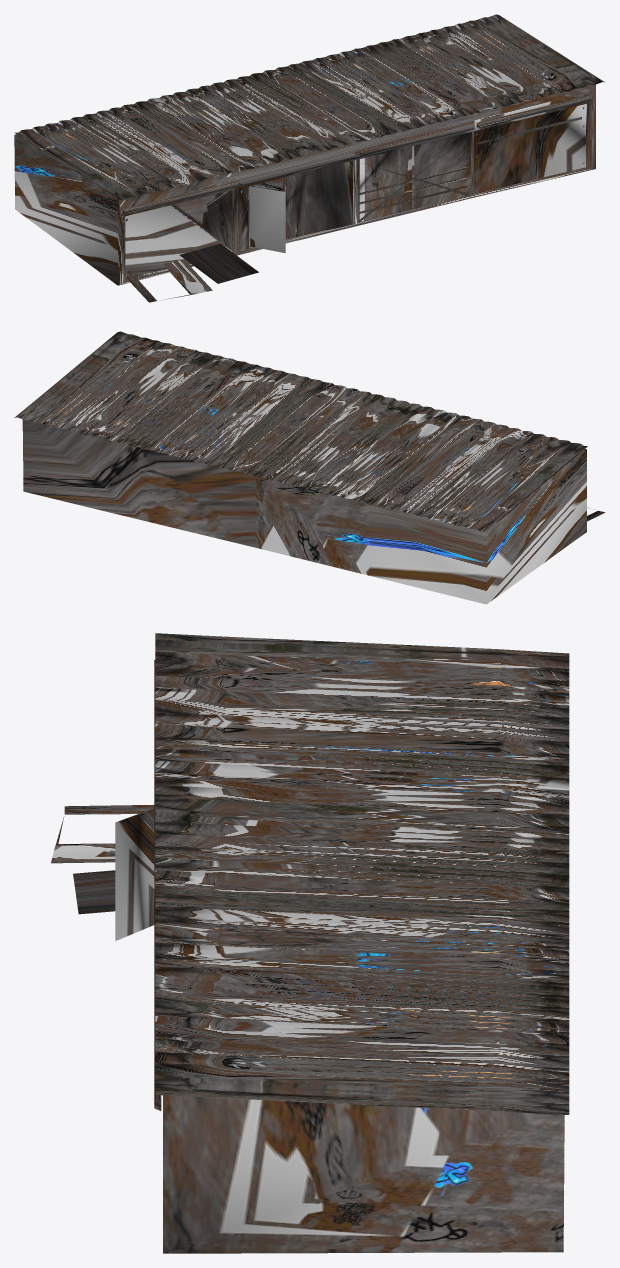
Rendered from abandoned_garage.glb.
The picture shows the model from 3 angles, top to bottom: view 1: azimuth 30°, elevation 25°; view 2: azimuth 150°, elevation 25°; view 3: azimuth 270°, elevation 25°; orthographic projection. The views are drawn at different scales.
Parts seen in each view (by area): view 1: abandoned_garage; view 2: abandoned_garage; view 3: abandoned_garage.
Boxes of the visible parts, x1=… form: abandoned_garage: x1=14, y1=14, x2=604, y2=302; abandoned_garage: x1=14, y1=331, x2=605, y2=604; abandoned_garage: x1=51, y1=633, x2=569, y2=1253.
Bounding box in the file's own units: 16.26 × 2.8 × 7.74.
Materials: 1 (1 with a texture image).
